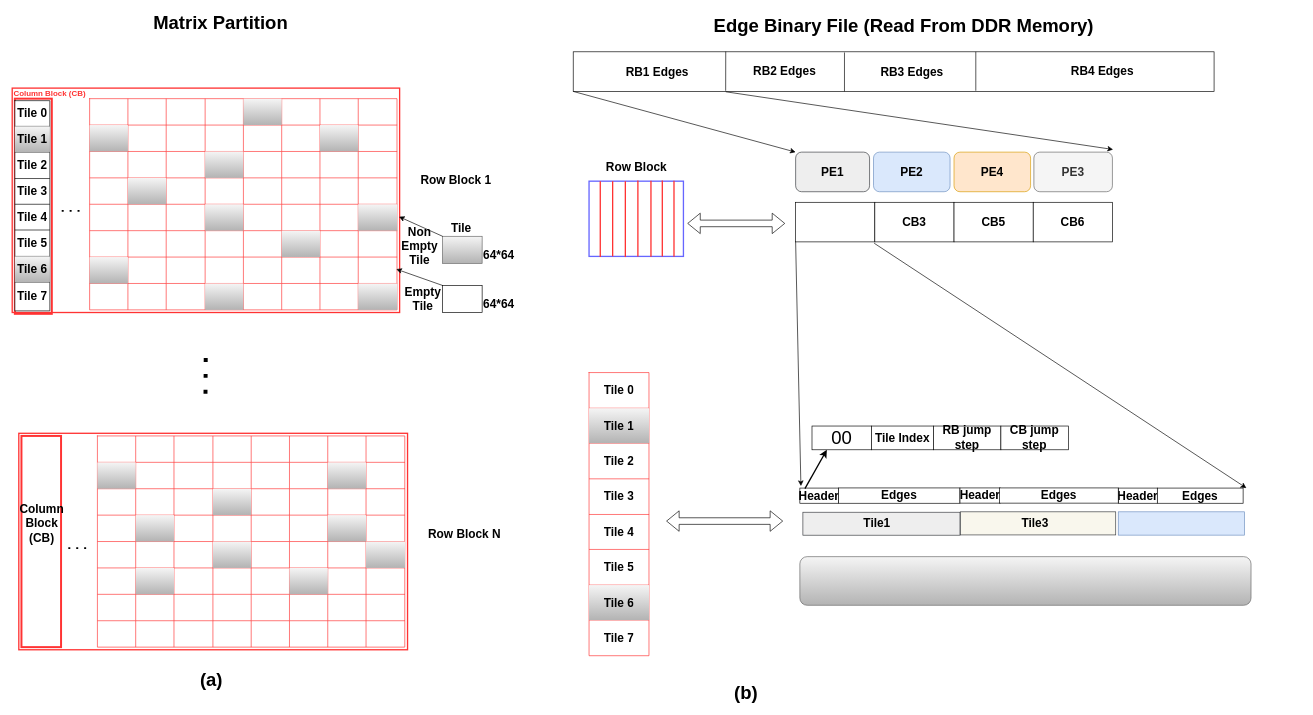
The diagram is 1313 pixels wide and 715 high, and some of its shapes have lost their labels. The centre of each missing label's shape, as x and y in pixels:
"CB1" belongs at (835,222).
"PE 1" belongs at (1025,580).
"Tile5" belongs at (1181,523).
